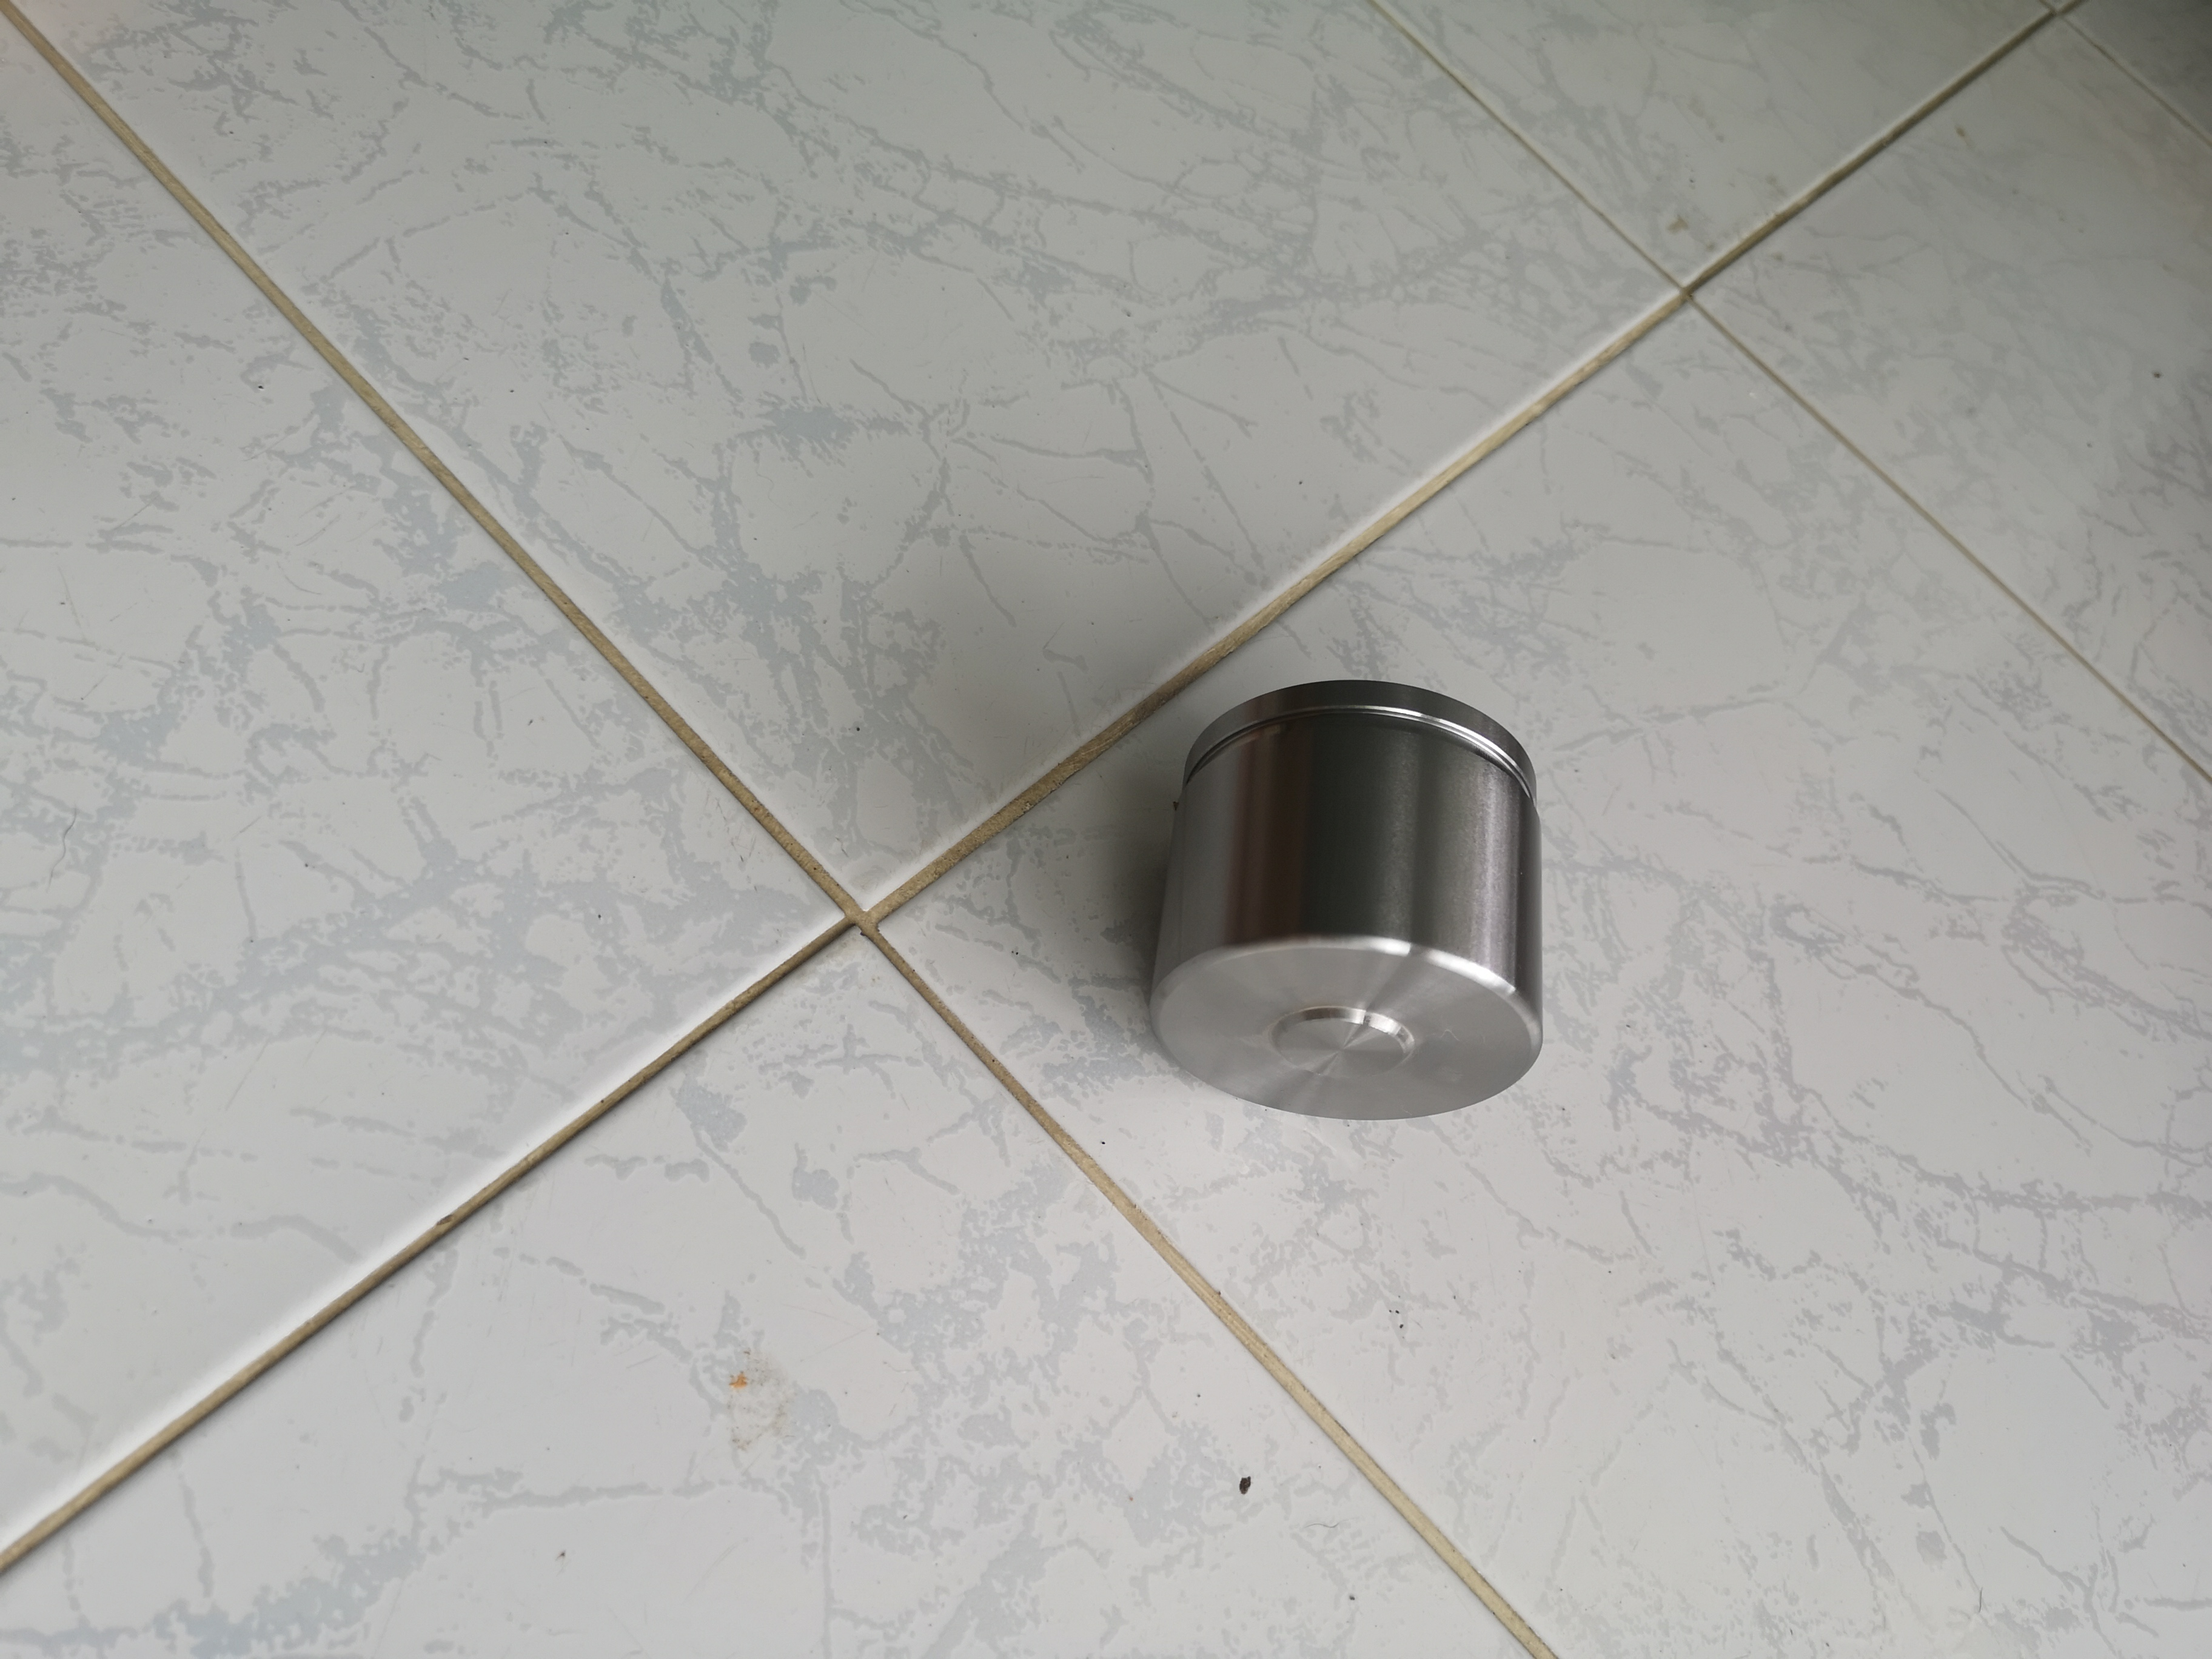ลูกสูบดิสเบรค: (1078, 653, 1615, 1194)
